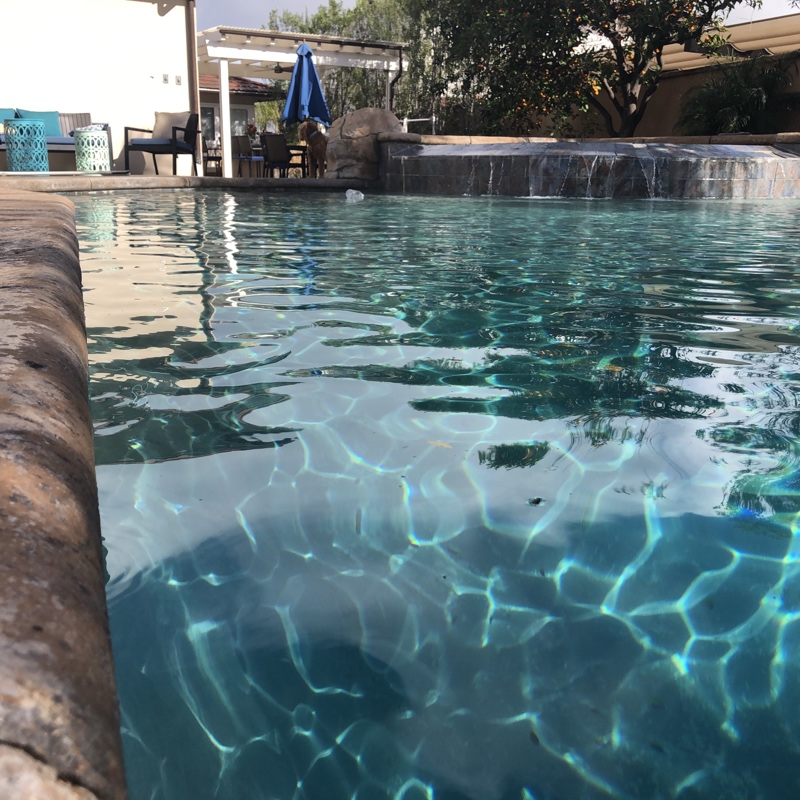Plastic Bottle: (344, 186, 365, 202)
